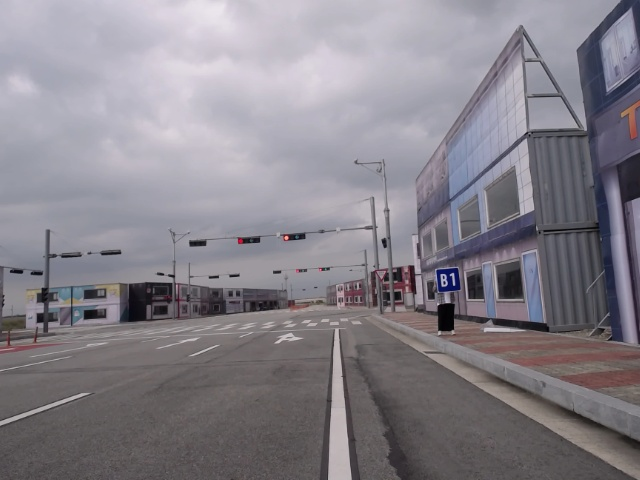delivery_b1: (435, 267, 462, 292)
left_green_4: (283, 233, 306, 241), (238, 236, 260, 244), (296, 269, 308, 273), (319, 268, 330, 271)
